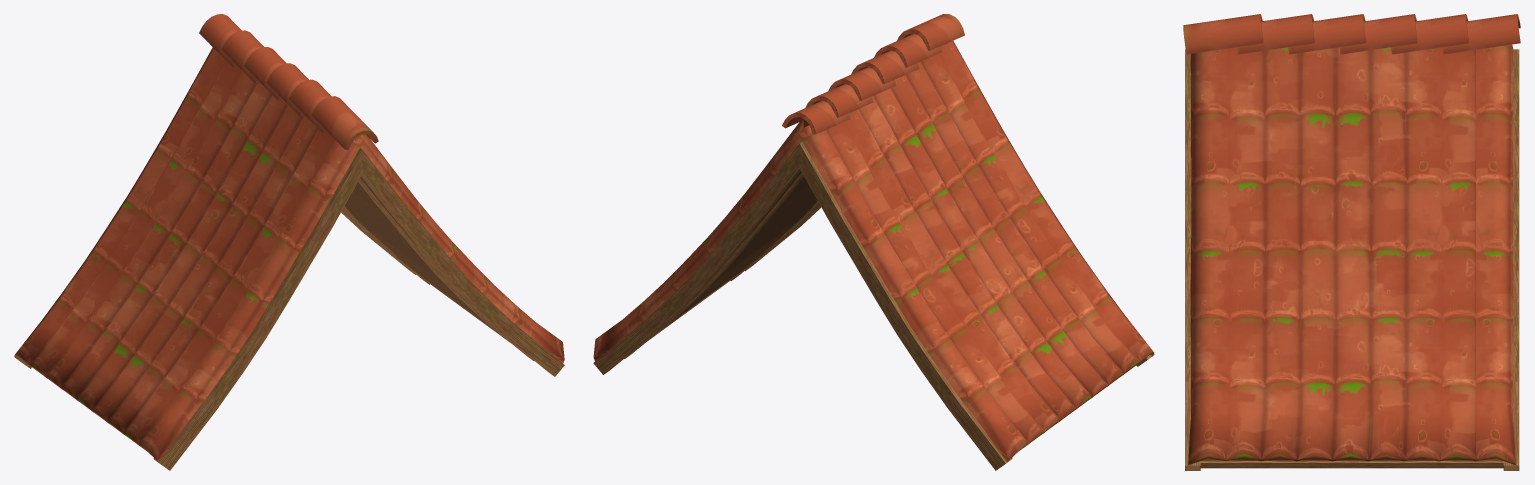
Rendered from Roof_RoundTiles_6x4.gltf.
The picture shows the model from 3 angles, left to right: view 1: azimuth 30°, elevation 25°; view 2: azimuth 150°, elevation 25°; view 3: azimuth 270°, elevation 25°; orthographic projection. The views are drawn at different scales.
Visible parts, largest first — view 1: Roof_RoundTiles_6x4; view 2: Roof_RoundTiles_6x4; view 3: Roof_RoundTiles_6x4.
Part boxes in pixels (<box>): Roof_RoundTiles_6x4: <box>14,14,564,470</box>; Roof_RoundTiles_6x4: <box>593,14,1154,470</box>; Roof_RoundTiles_6x4: <box>1183,14,1520,470</box>.
Bounding box in the file's own units: 8.25 × 5.67 × 4.99.
2 materials, 2 textured.
